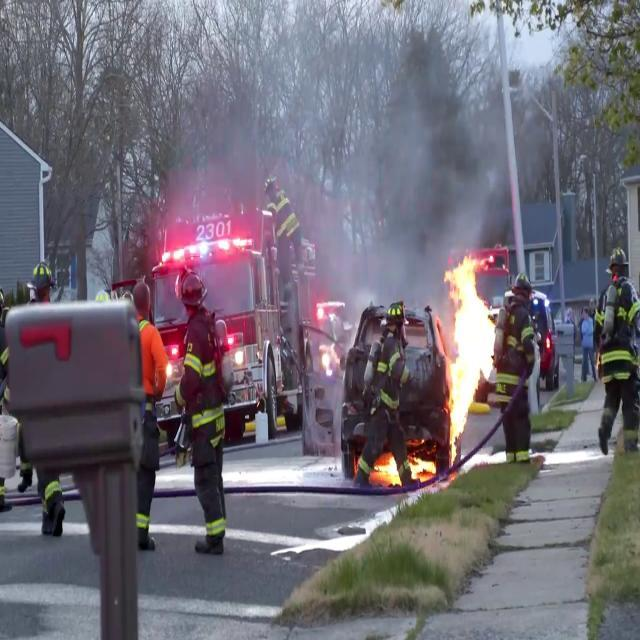Fire: (442, 246, 496, 454)
Smoke: (286, 8, 554, 274)
